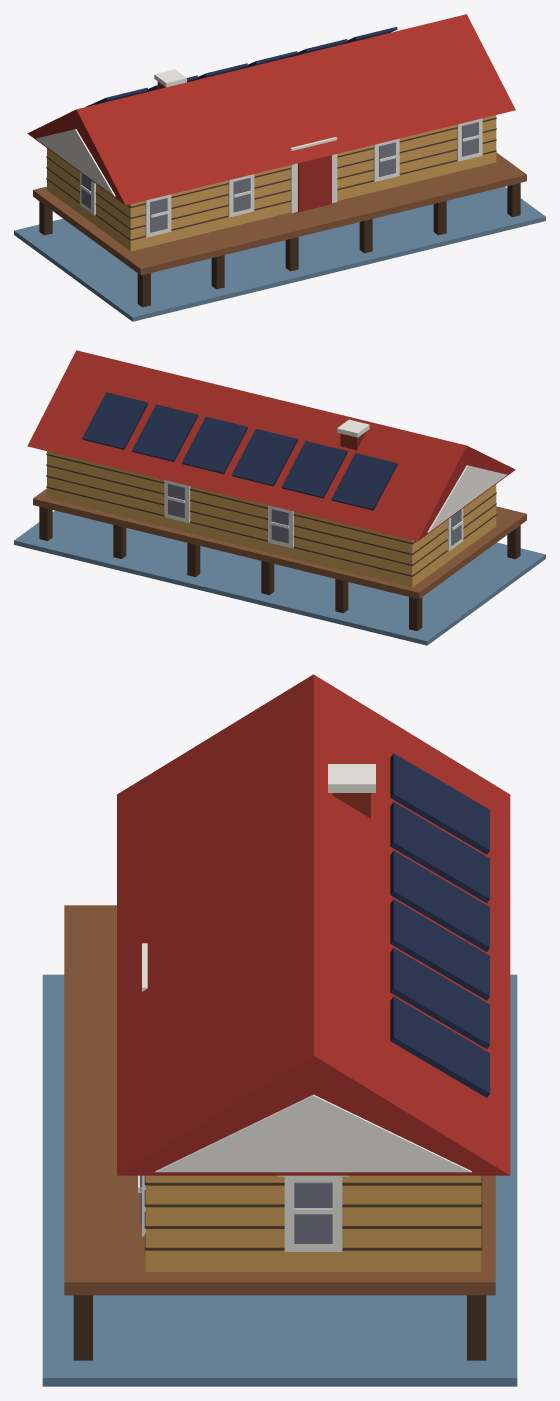
Rendered from house-2x1-1f-palafito-a-solar.glb.
3 renders of one model, top to bottom at view 1: azimuth 30°, elevation 25°; view 2: azimuth 150°, elevation 25°; view 3: azimuth 270°, elevation 25°, orthographic. The views are drawn at different scales.
Parts seen in each view (by area): view 1: house-2x1-1f-palafito-a-solar; view 2: house-2x1-1f-palafito-a-solar; view 3: house-2x1-1f-palafito-a-solar.
Part boxes in pixels (x1,y1,x2,y2): house-2x1-1f-palafito-a-solar: [14, 14, 545, 321]; house-2x1-1f-palafito-a-solar: [14, 350, 545, 645]; house-2x1-1f-palafito-a-solar: [42, 674, 517, 1386].
Bounding box in the file's own units: 1.99 × 0.74 × 0.99.
Materials: 1 (1 with a texture image).
